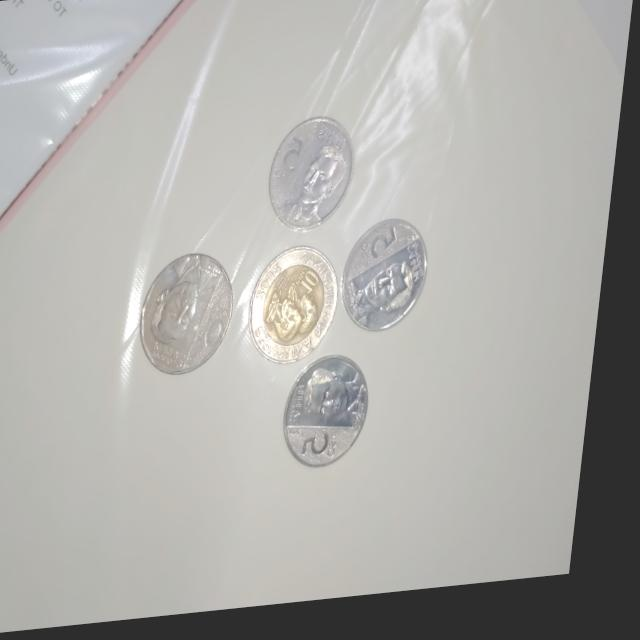10_New_Front: (151, 265, 240, 370)
10_Old_Front: (255, 255, 347, 367)
5_New_Front: (342, 225, 442, 342), (291, 361, 384, 484)
